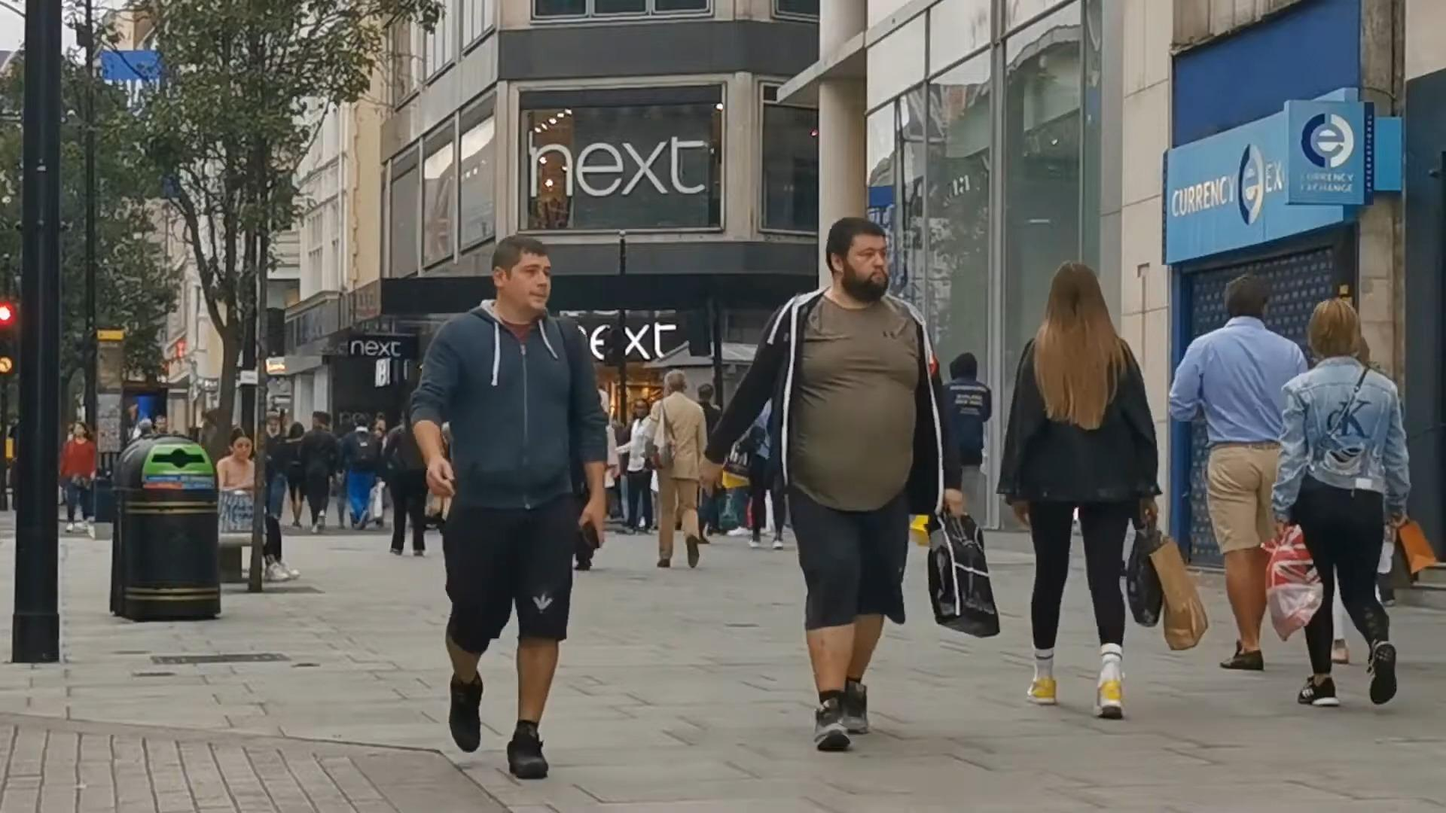no-helmet: (826, 217, 890, 305), (1040, 260, 1114, 332), (492, 234, 550, 316), (1307, 298, 1361, 365), (1225, 273, 1270, 324), (228, 427, 252, 462), (950, 353, 978, 382), (665, 369, 687, 398), (73, 420, 95, 442)
